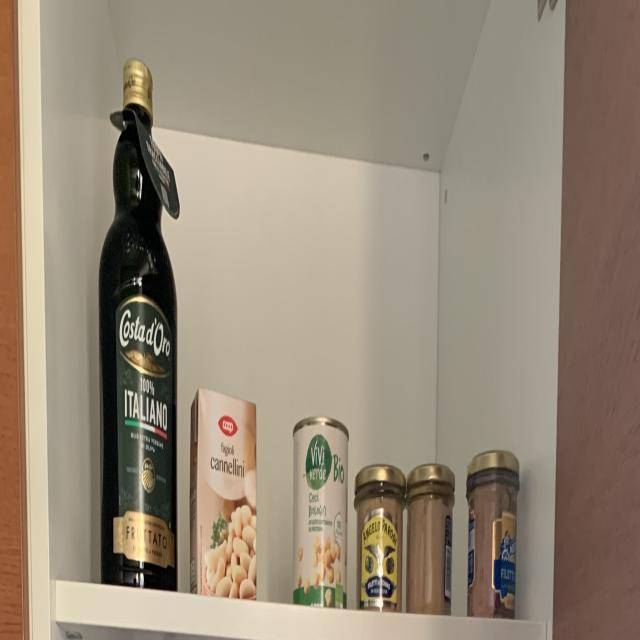beans: (192, 387, 256, 597)
chickpeas: (293, 417, 348, 607)
oil: (96, 64, 178, 588)
tuna_fish: (471, 486, 516, 620), (407, 498, 452, 614), (358, 493, 400, 609)
